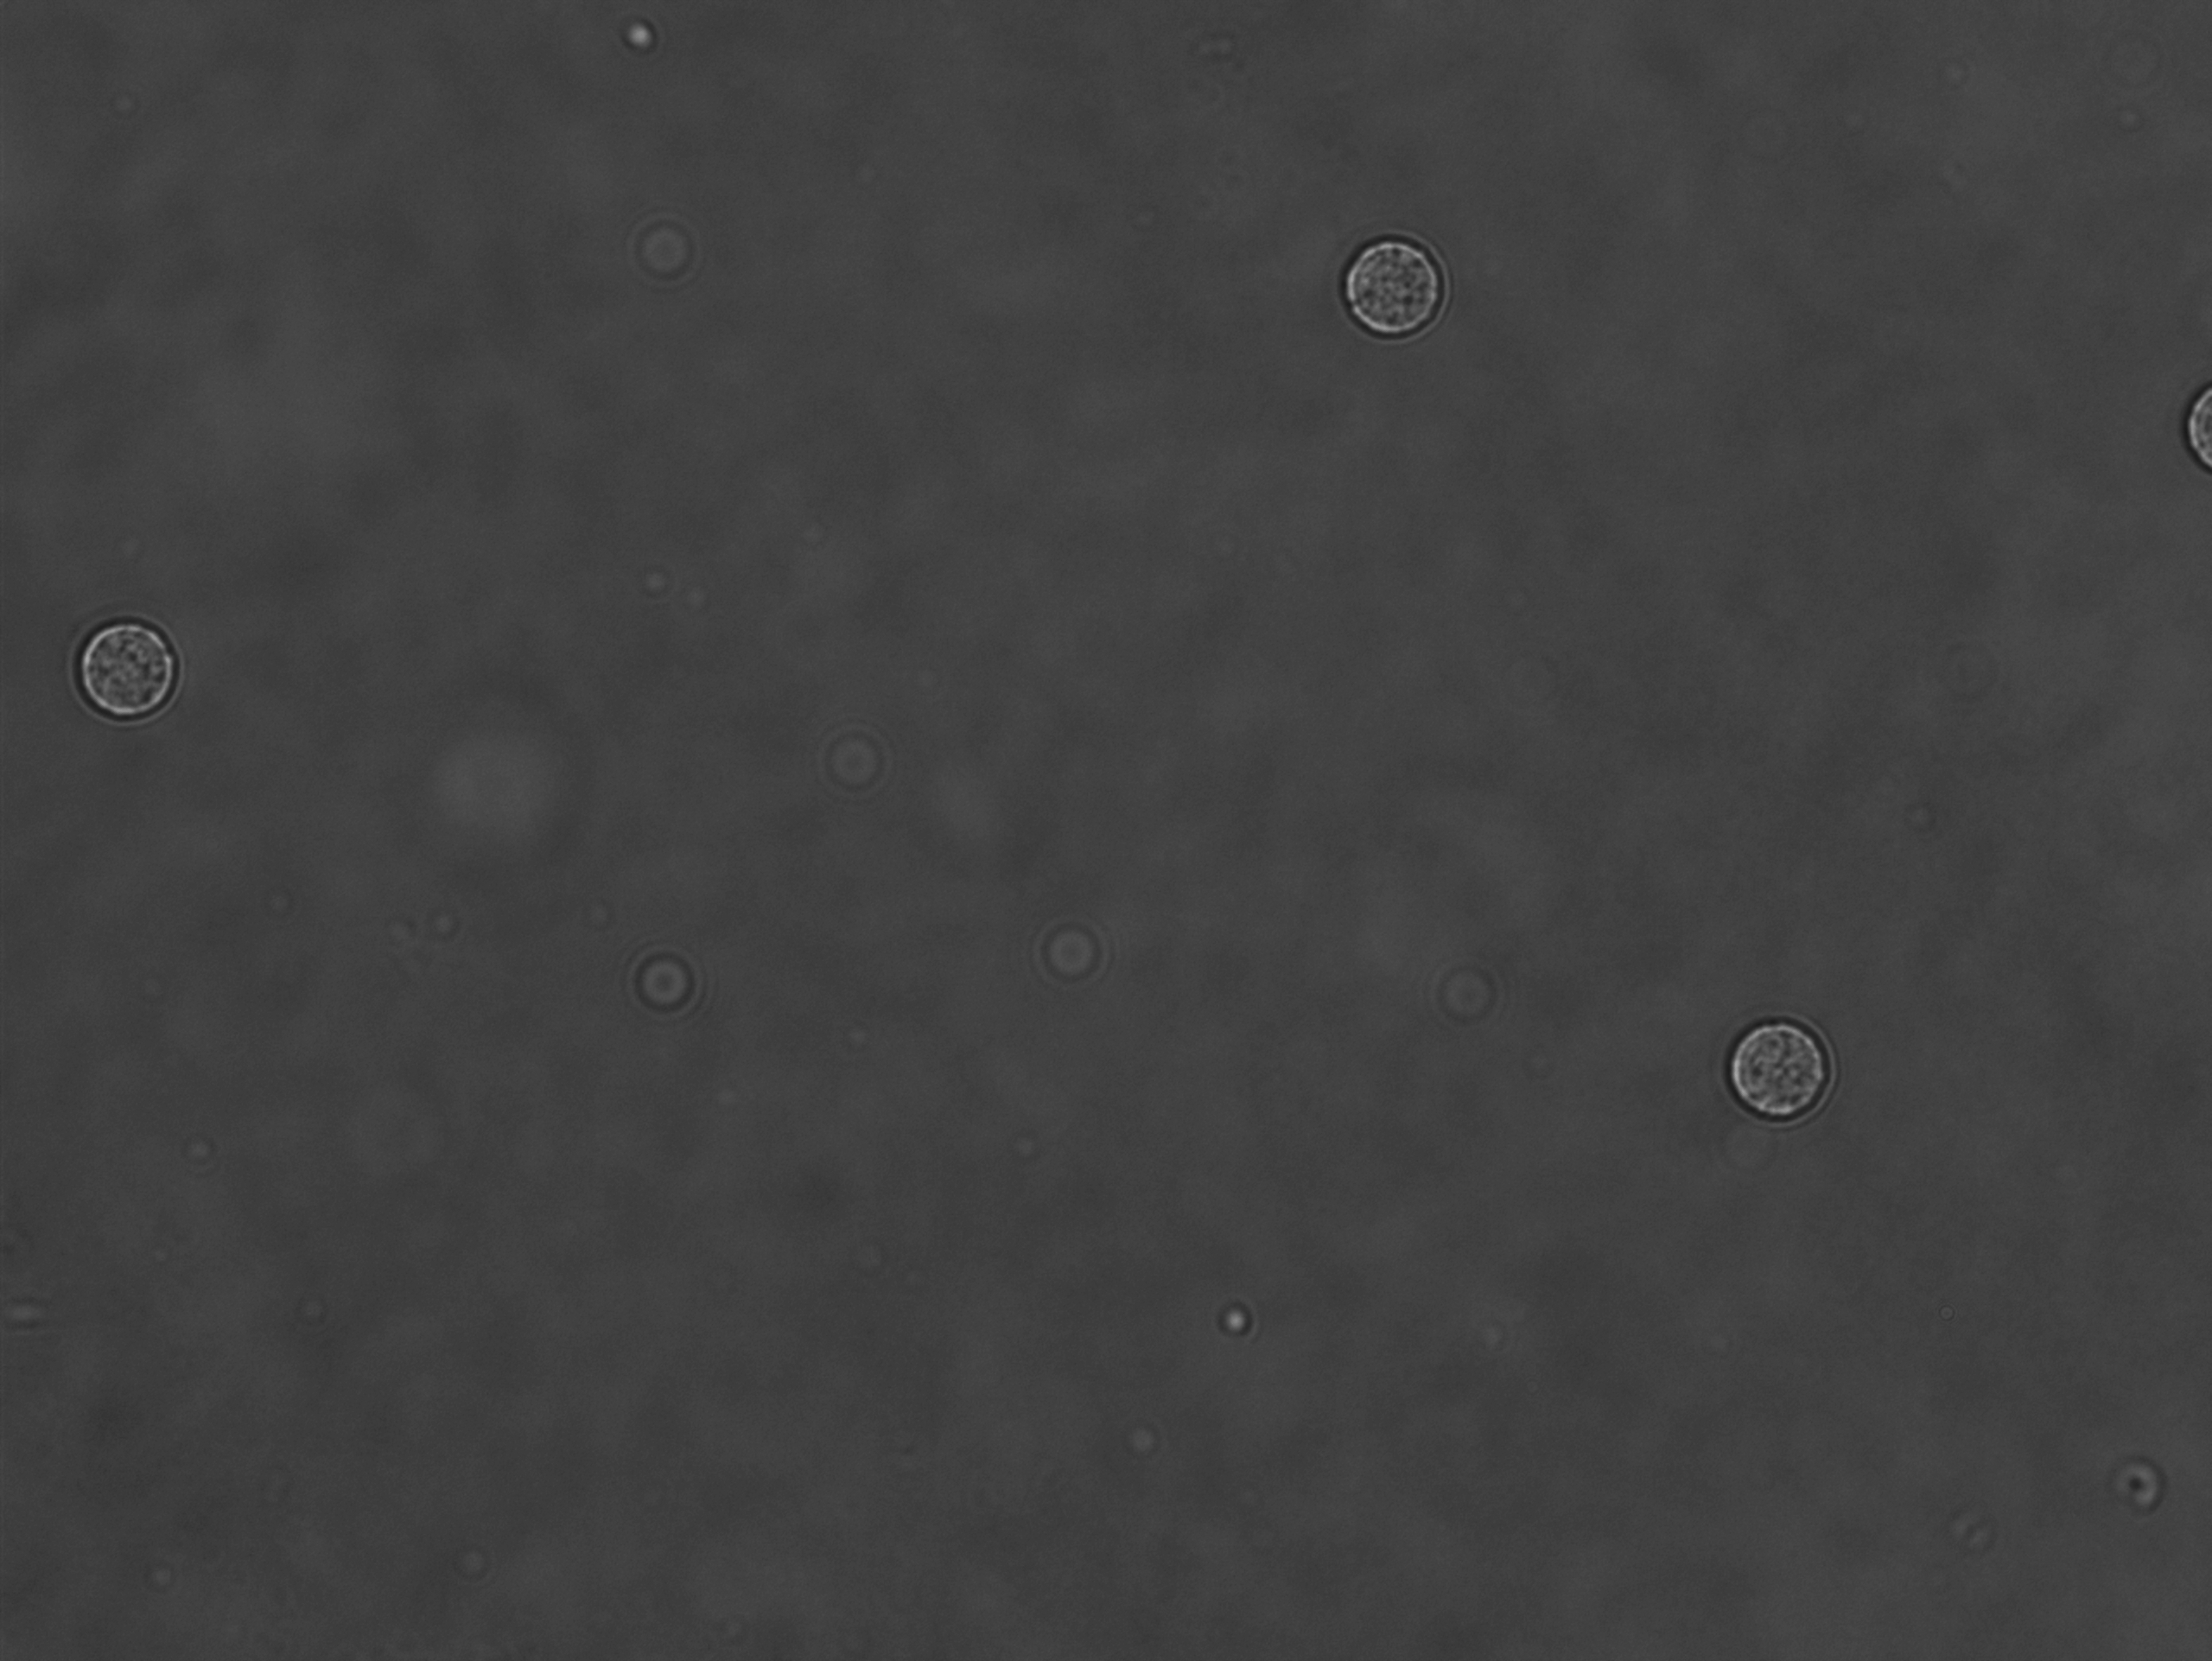depth:0: (1706, 1010, 1851, 1159), (66, 595, 202, 738), (1329, 222, 1467, 356)
